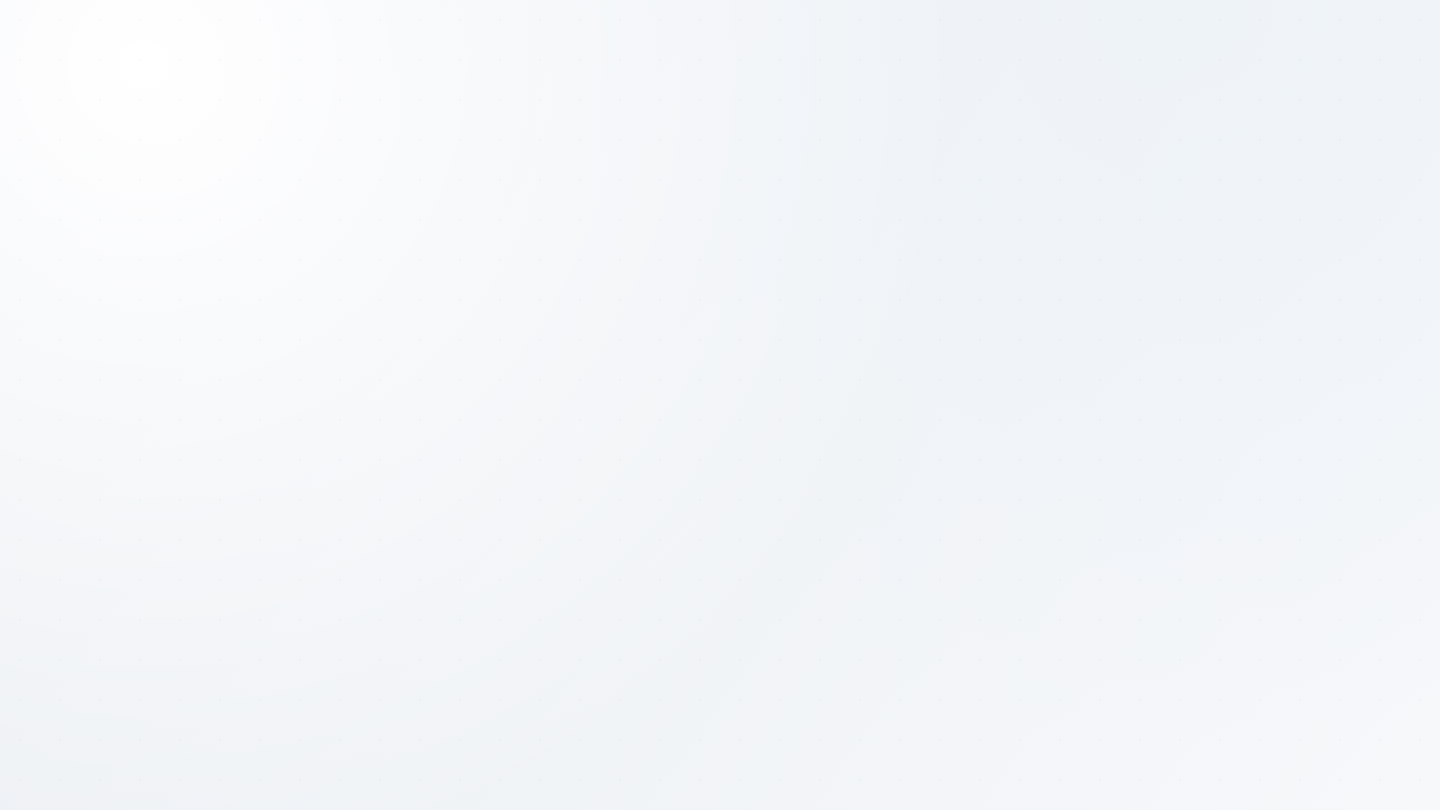
Test case: CommandPalette › filters commands as the user types
Press k
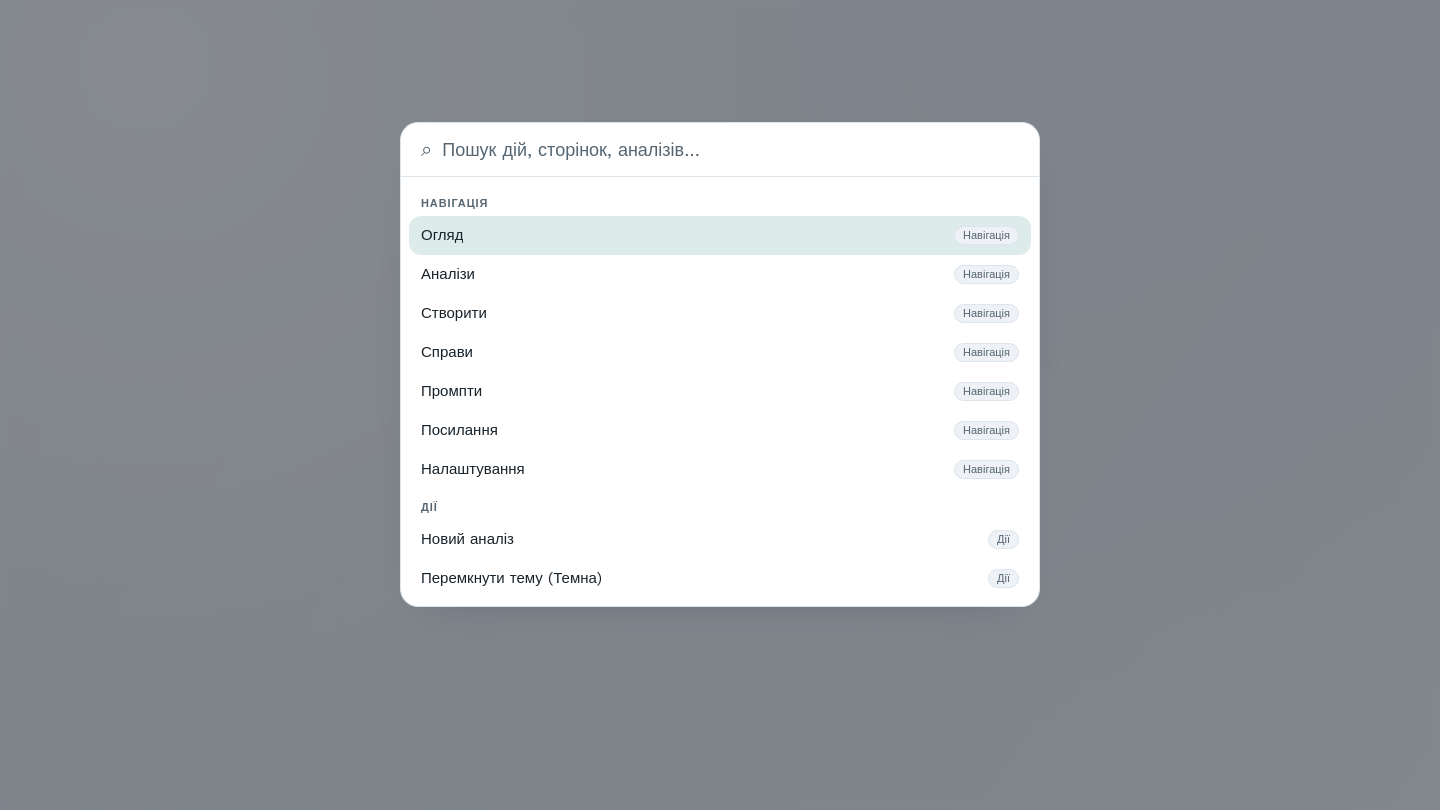
Type "zzzznomatch" into the dropdown. click: (731, 149)
box: [442, 138, 1019, 160]
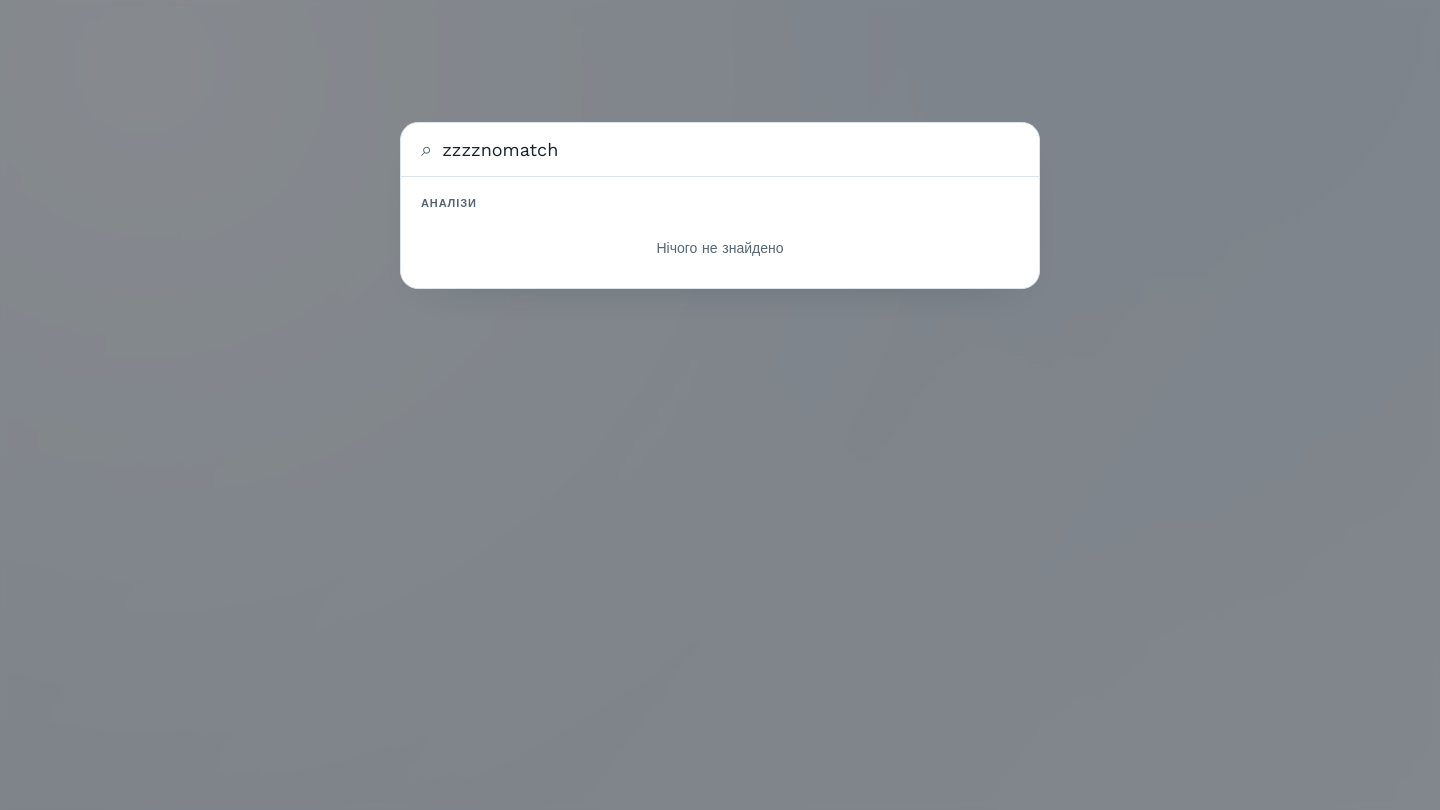
Check: the list item "Нічого не знайдено" is shown, box [656, 240, 784, 256]
